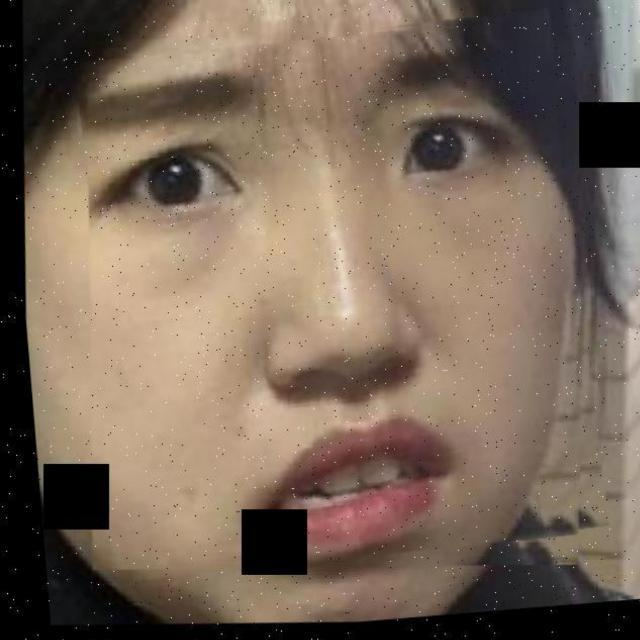surprised: (59, 59, 560, 633)
